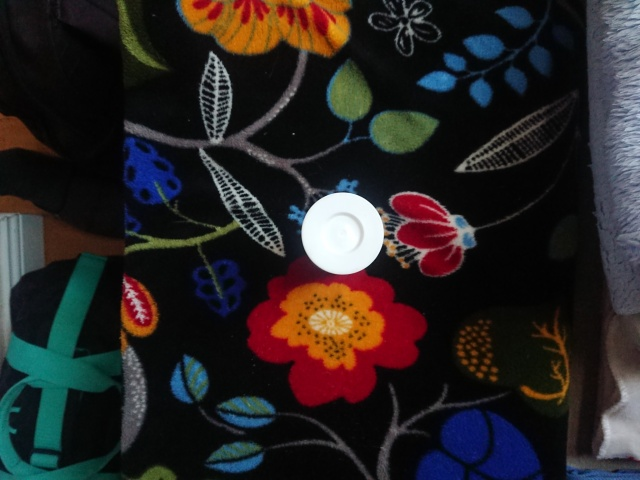Solana Pag Fine Sea Salt 250g: (298, 189, 388, 278)
